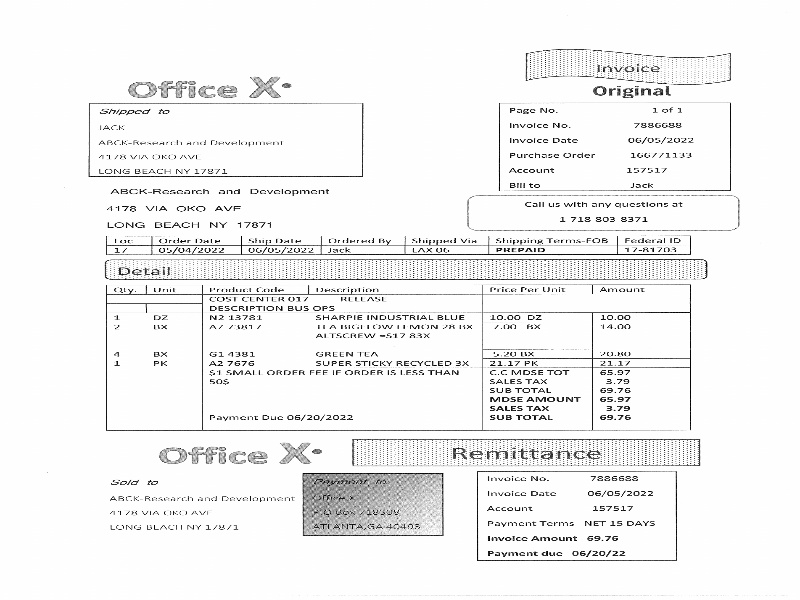Bordered: (107, 280, 691, 430)
